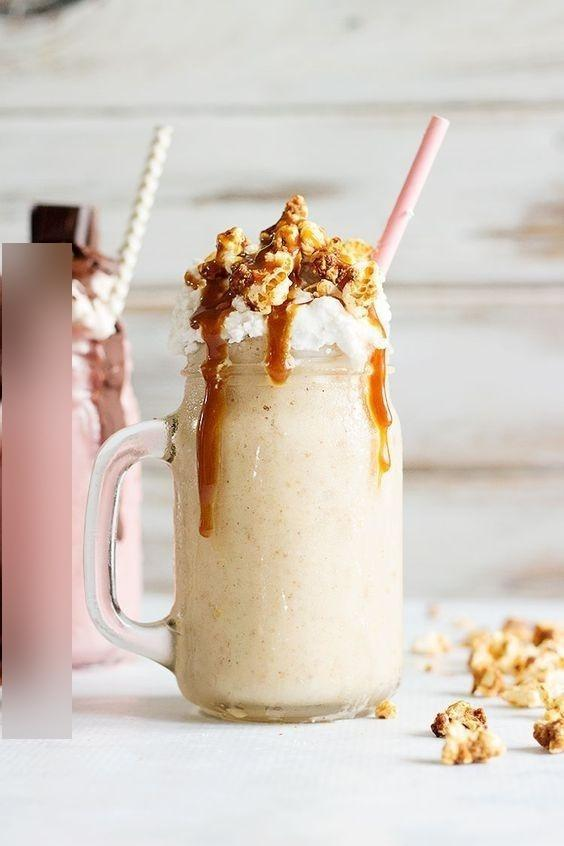glass-mug: (79, 344, 411, 734)
